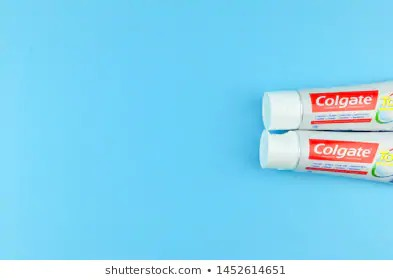colgate-total-150gm: (258, 129, 393, 187), (256, 75, 393, 132)
